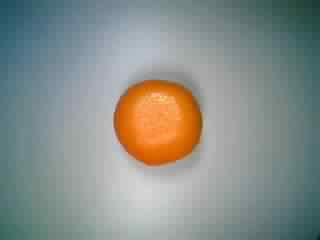orange: (112, 75, 207, 169)
